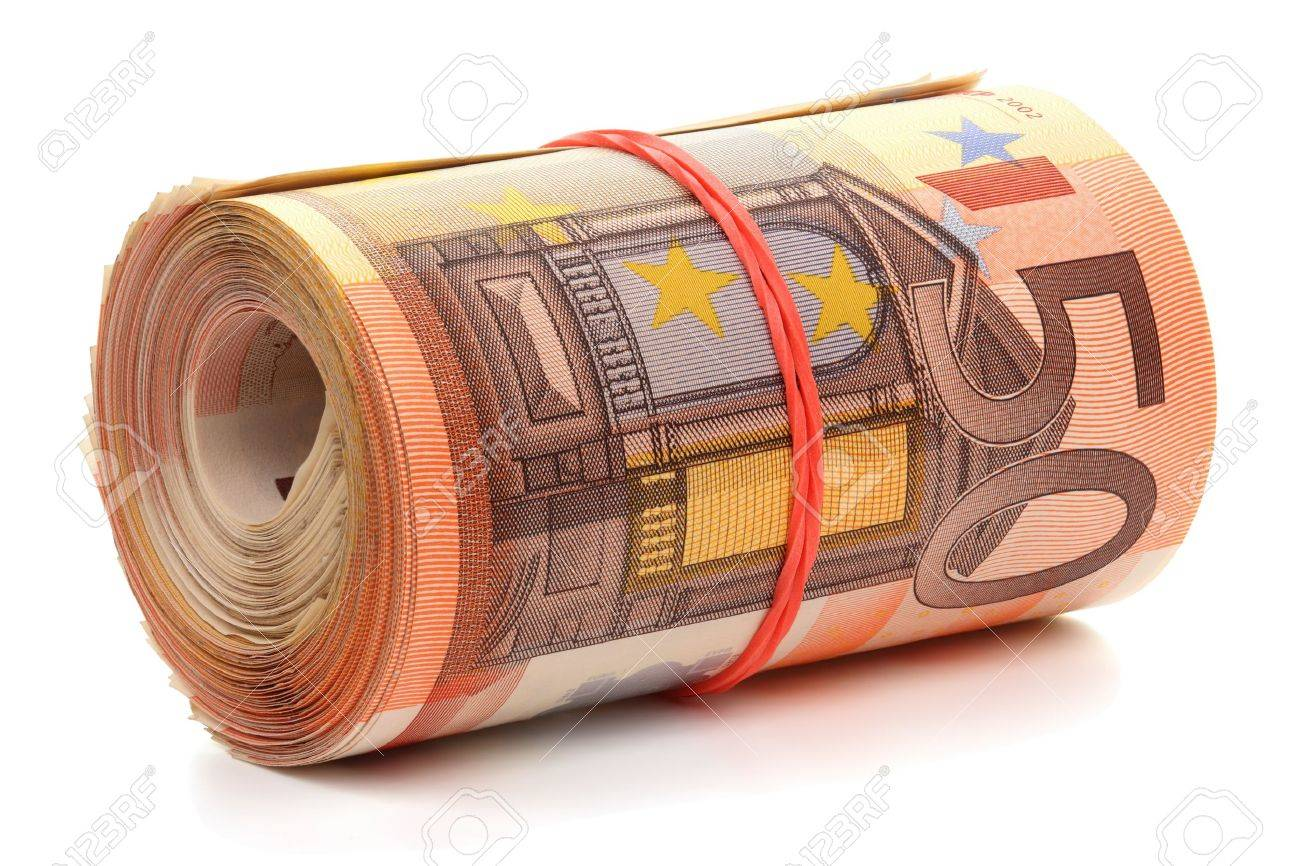billete: (81, 60, 1220, 776)
